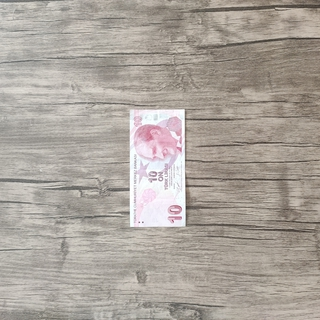10TLFront: (128, 108, 186, 228)
